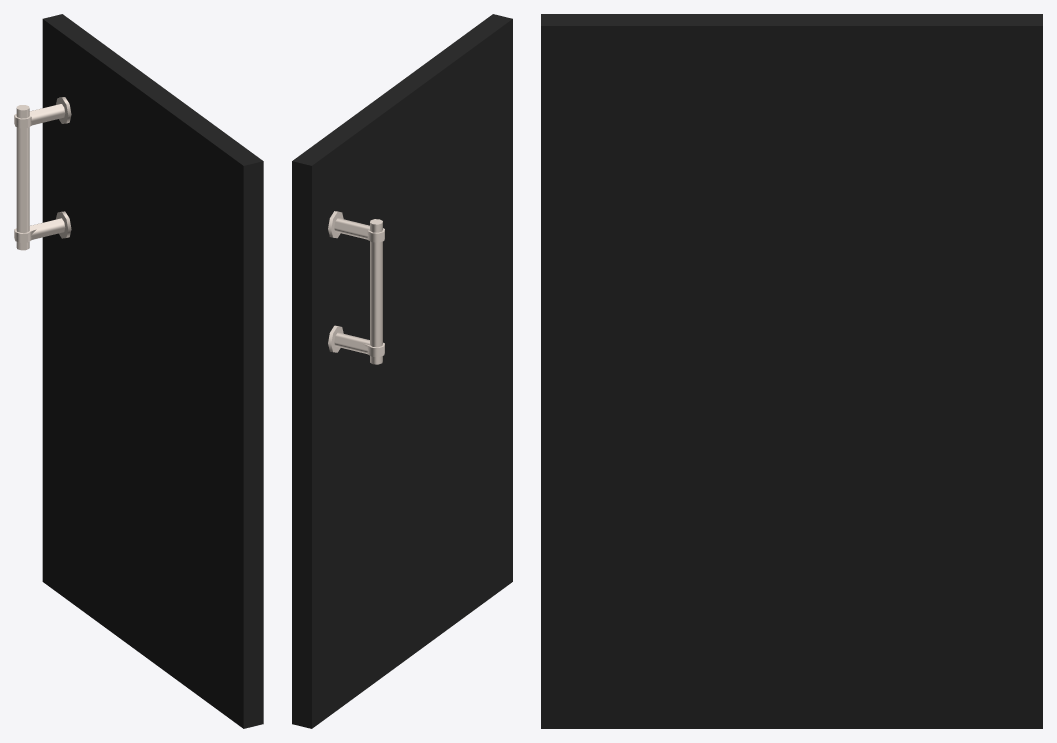
The model's file is Cabinet_d0cda50d.obj.
3 views of the same model, side by side, from view 1: azimuth 30°, elevation 25°; view 2: azimuth 150°, elevation 25°; view 3: azimuth 270°, elevation 25° (orthographic). The views are drawn at different scales.
Parts seen in each view (by area): view 1: FP425:Door1_3a504b98; view 2: FP425:Door1_3a504b98; view 3: FP425:Door1_3a504b98.
Part boxes in pixels (<box>): FP425:Door1_3a504b98: <box>14,14,263,728</box>; FP425:Door1_3a504b98: <box>292,14,512,728</box>; FP425:Door1_3a504b98: <box>541,14,1042,728</box>.
Bounding box in the file's own units: 0.0894 × 0.6908 × 0.4472.
